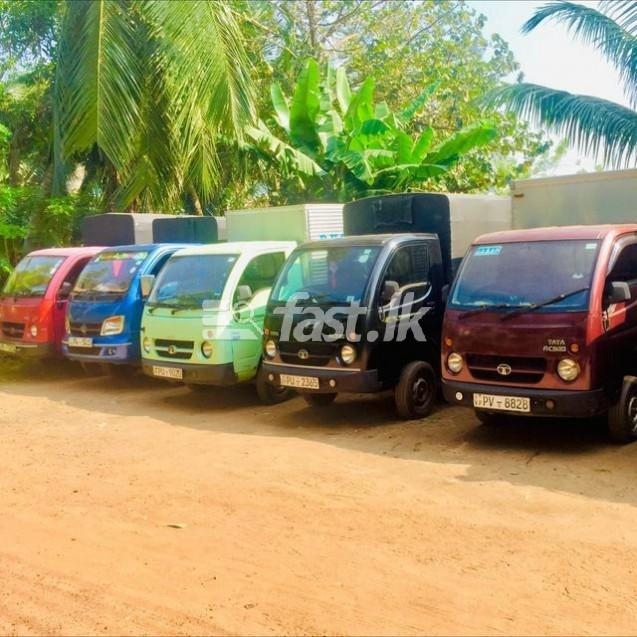truck: (260, 193, 511, 420), (441, 165, 637, 444), (138, 204, 343, 406), (64, 215, 225, 378), (1, 213, 164, 360)
